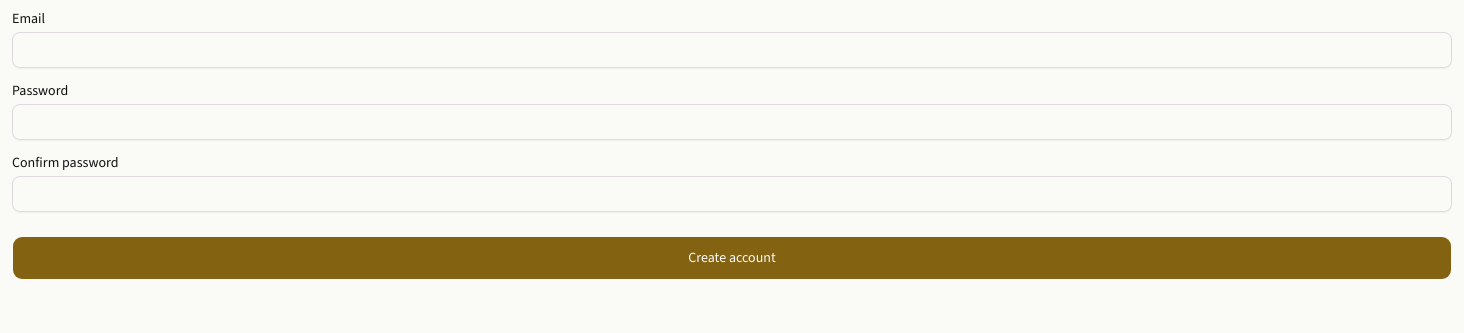
SignUpForm › shows the server error and keeps the form
Type "me@example.com" into the field labelled "Email" at (732, 50), box [12, 32, 1452, 68]
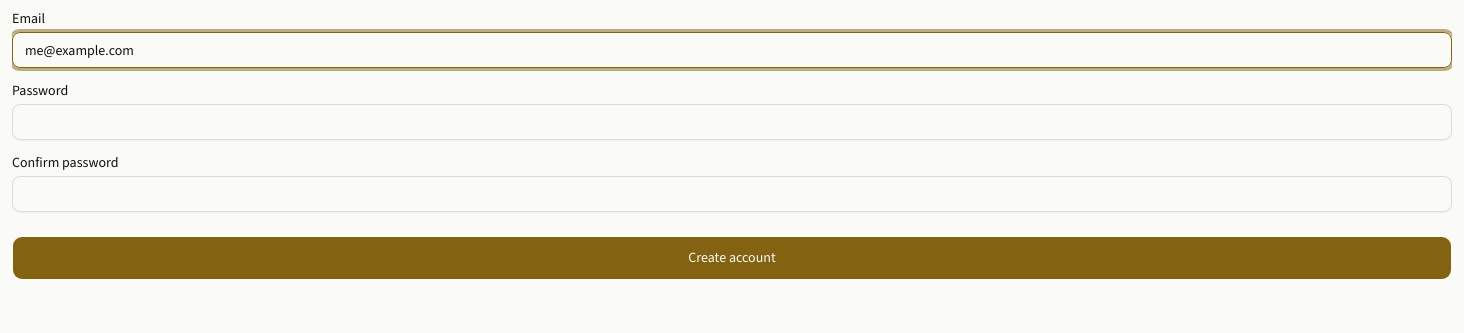
Type "longenough" into the password field labelled "Password" at (732, 122), box [12, 104, 1452, 140]
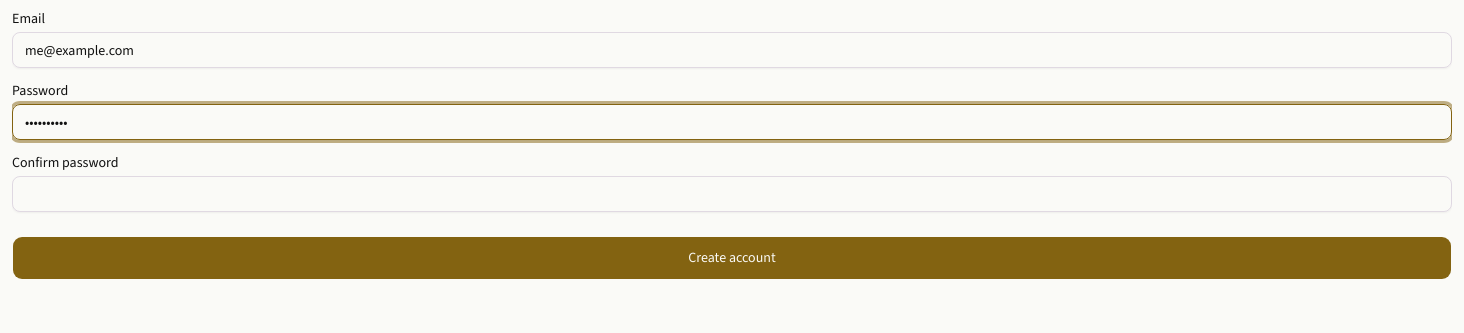
Type "longenough" into the password field labelled "Confirm password" at (732, 194), box [12, 176, 1452, 212]
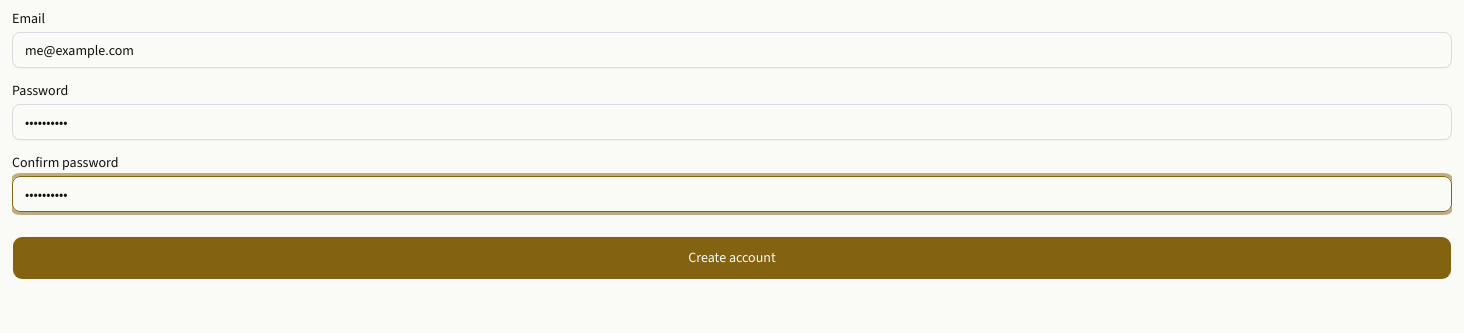
Click the button "Create account" at (732, 258), box [12, 236, 1452, 280]
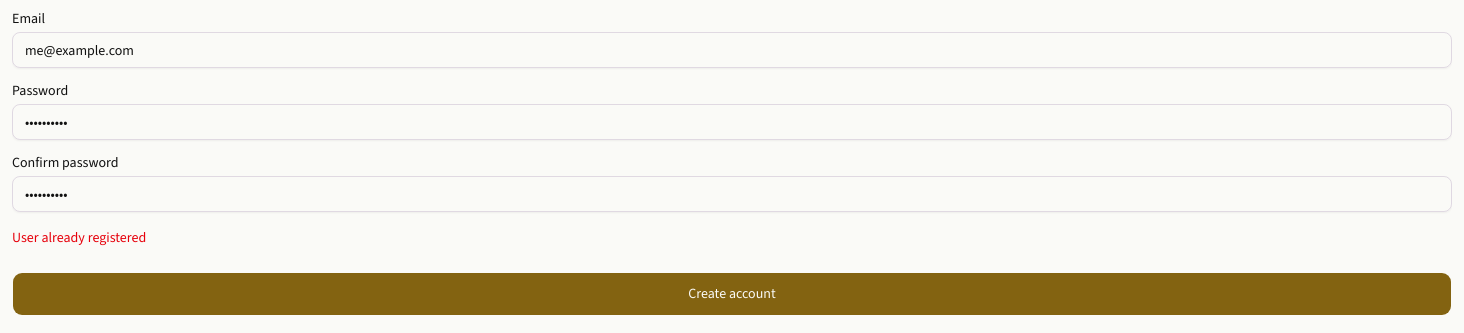
Check: the button "Create account" is shown, box [12, 272, 1452, 316]
Check: the message reads "User already registered", box [12, 228, 146, 247]
